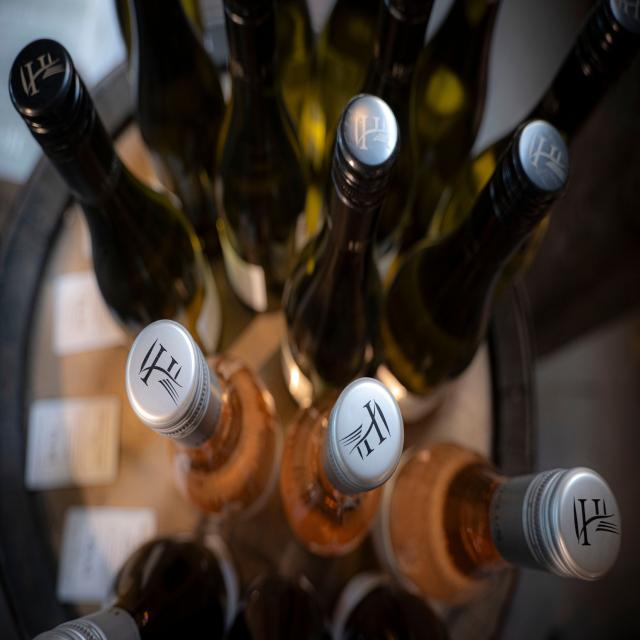Bottle: (10, 40, 221, 352), (377, 121, 568, 396), (375, 444, 620, 604), (282, 95, 400, 405), (126, 321, 282, 518), (215, 0, 305, 311), (401, 0, 499, 251), (130, 0, 225, 255), (281, 378, 403, 556), (37, 536, 238, 639), (299, 0, 378, 236), (362, 0, 433, 256), (526, 0, 639, 143), (316, 0, 378, 175), (332, 572, 448, 639), (227, 576, 330, 639), (276, 0, 313, 128)
